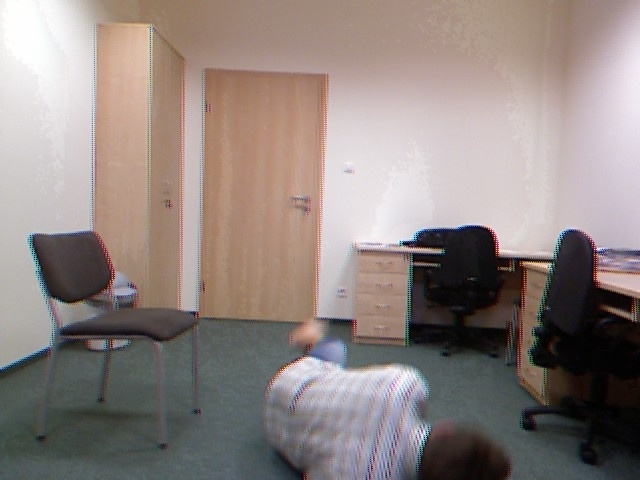fall: (245, 310, 516, 480)
